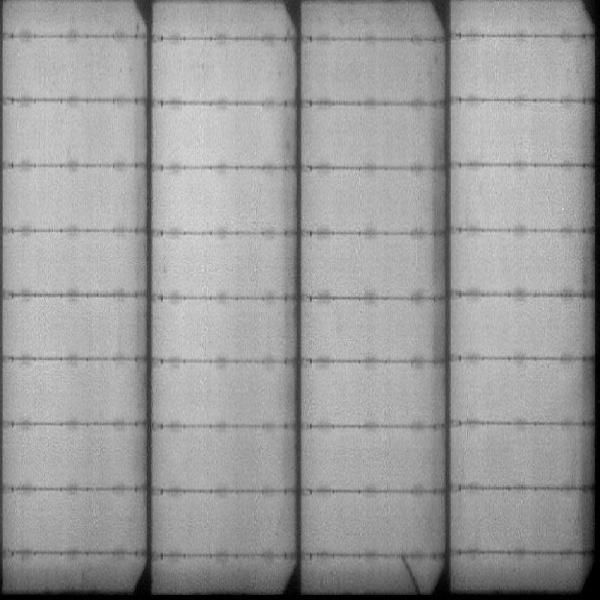scratch: (399, 558, 424, 593)
